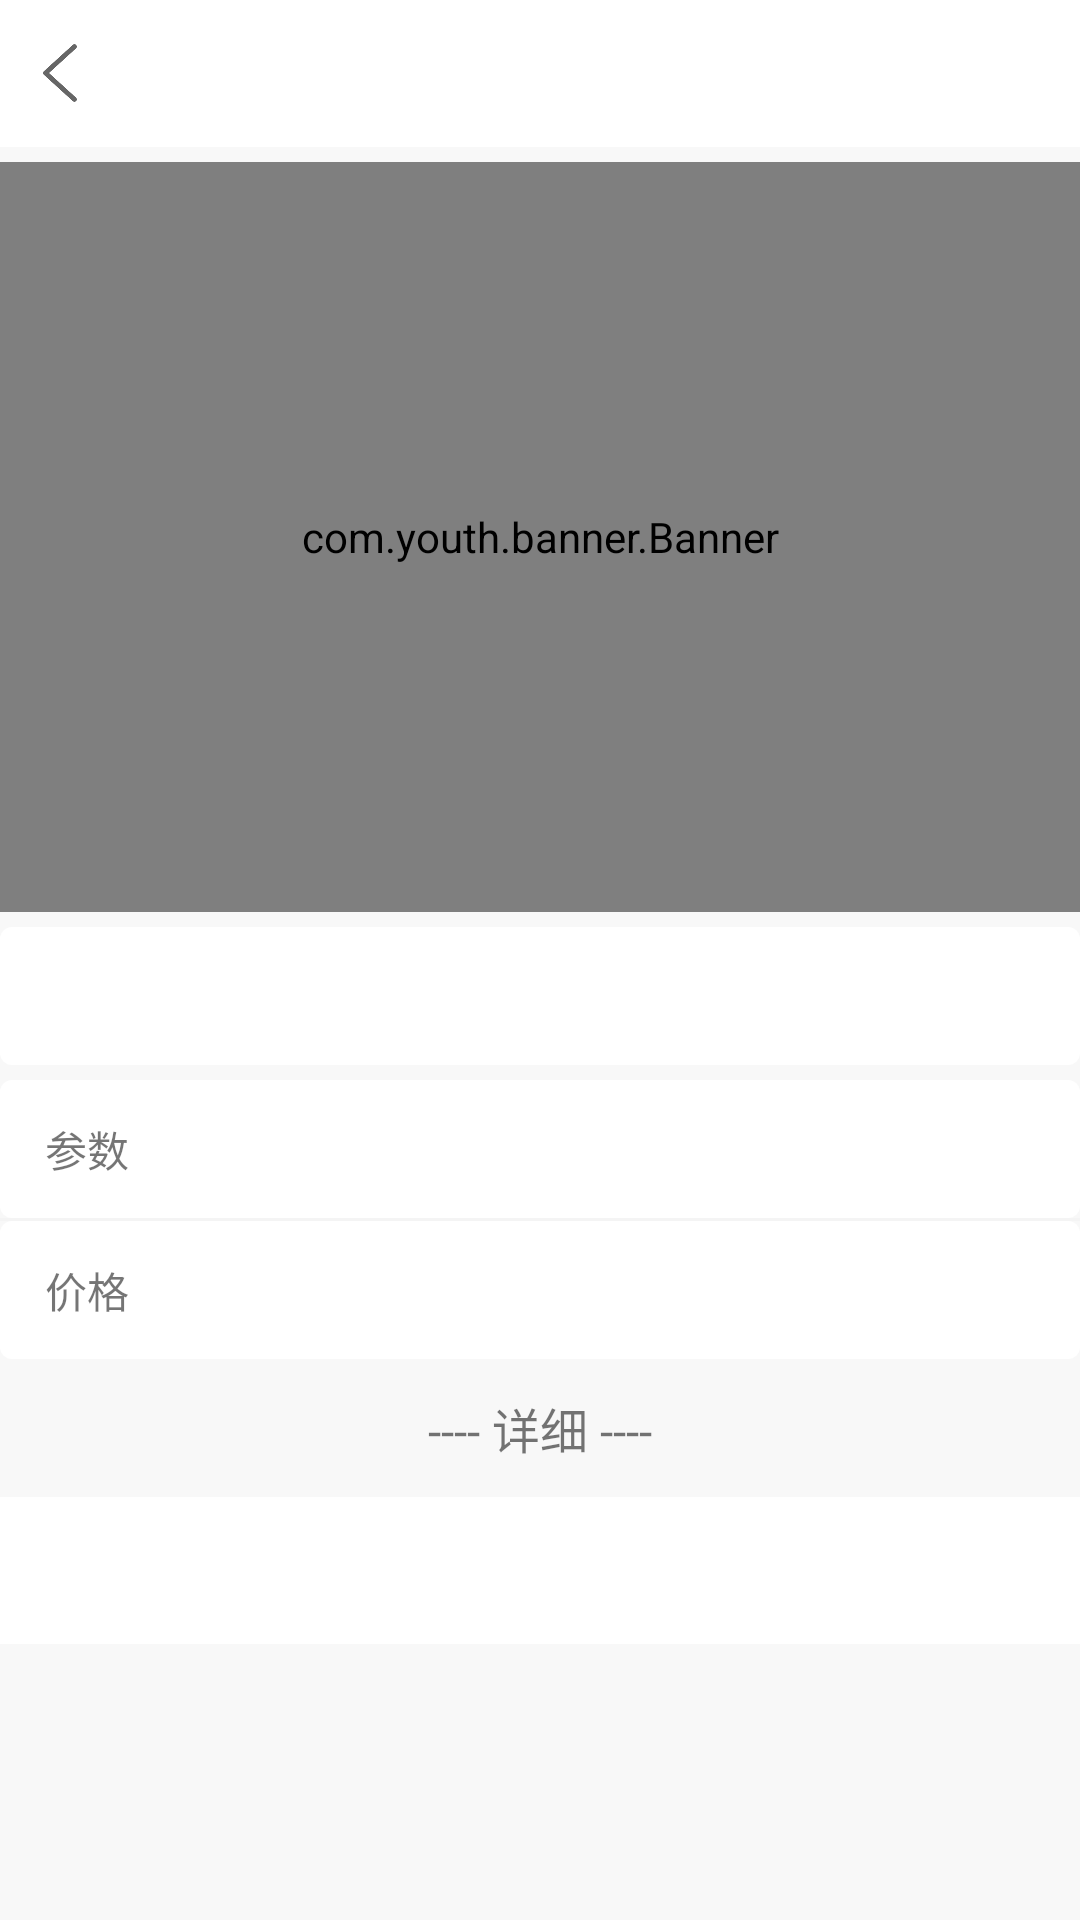

Point at icon controls on the screen. Image size 1080px×1920px, points as [x,y].
back: [60,73]
